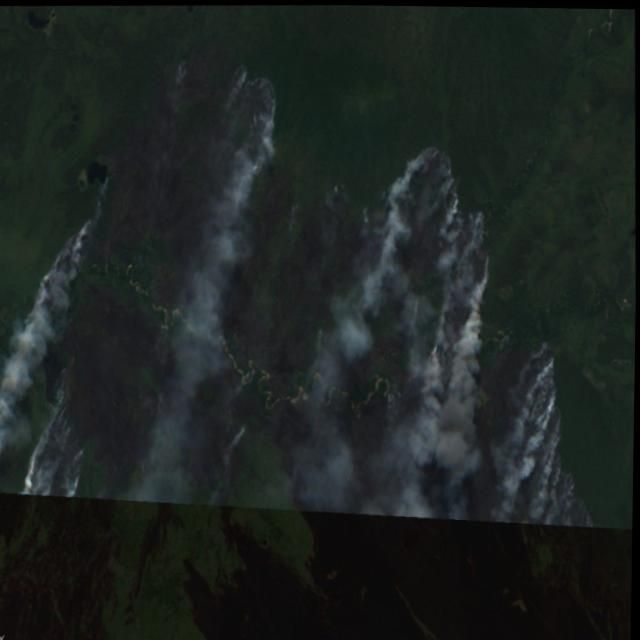fire: (0, 48, 606, 540)
